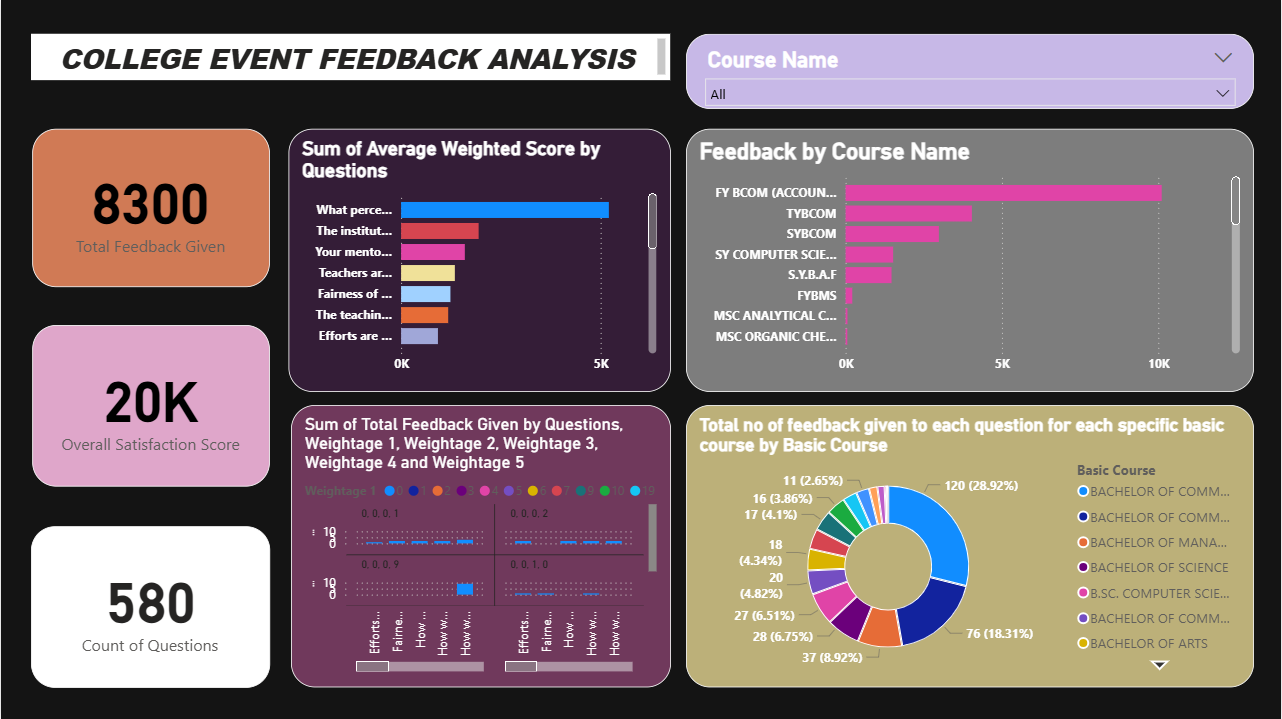

The page's visual inventory and layout, read from the dashboard file:
{"tool":"powerbi","page":{"name":"Page 1","canvas":[1280,720],"ordinal":0},"visuals":[{"type":"textbox","box":[30.2,34.3,639.5,46.7],"z":0},{"type":"clusteredBarChart","fields":{"Category":["Student_Satisfaction_Survey.Questions"],"Y":["Sum(Student_Satisfaction_Survey.Average Weighted Score)"]},"box":[287.1,129.1,382.4,263],"z":1000},{"type":"slicer","fields":{"Values":["Student_Satisfaction_Survey.Course Name "]},"box":[684.7,34.3,568.1,75.5],"z":2000},{"type":"columnChart","fields":{"Y":["Sum(Student_Satisfaction_Survey.Total Feedback Given)"],"Category":["Student_Satisfaction_Survey.Questions"],"Series":["Student_Satisfaction_Survey.Weightage 1"],"Rows":["Student_Satisfaction_Survey.Weightage 2","Student_Satisfaction_Survey.Weightage 3","Student_Satisfaction_Survey.Weightage 4","Student_Satisfaction_Survey.Weightage 5"]},"box":[289.5,405.4,380,282.3],"z":3000},{"type":"card","fields":{"Values":["Sum(Student_Satisfaction_Survey.Total Feedback Given)"]},"box":[31.4,129.1,237.7,158],"z":4000},{"type":"card","fields":{"Values":["Sum(Student_Satisfaction_Survey.Average Weighted Score)"]},"box":[31.4,324.5,237.7,161.7],"z":5000},{"type":"card","fields":{"Values":["CountNonNull(Student_Satisfaction_Survey.Questions)"]},"box":[30.2,526,238.9,161.7],"z":6000},{"type":"clusteredBarChart","fields":{"Category":["Student_Satisfaction_Survey.Course Name "],"Y":["Sum(Student_Satisfaction_Survey.Average Weighted Score)"]},"box":[685.3,129.1,568.2,263],"z":7000},{"type":"donutChart","fields":{"Y":["Sum(Student_Satisfaction_Survey.Total Feedback Given)"],"Category":["Student_Satisfaction_Survey.Basic Course"]},"box":[685.3,405.4,568.2,282.3],"z":8000}]}

Visuals, with their boxes in screenshot pixels (x1, y1, x2, y2), scaled from the page's 1280x720 canvas onto the 1282x719 screenshot:
textbox: bbox=(30, 34, 671, 81)
clusteredBarChart - Student_Satisfaction_Survey.Questions x Sum(Student_Satisfaction_Survey.Average Weighted Score): bbox=(288, 129, 671, 392)
slicer - Student_Satisfaction_Survey.Course Name : bbox=(686, 34, 1255, 110)
columnChart - Sum(Student_Satisfaction_Survey.Total Feedback Given) x Student_Satisfaction_Survey.Questions: bbox=(290, 405, 671, 687)
card - Sum(Student_Satisfaction_Survey.Total Feedback Given): bbox=(31, 129, 270, 287)
card - Sum(Student_Satisfaction_Survey.Average Weighted Score): bbox=(31, 324, 270, 486)
card - CountNonNull(Student_Satisfaction_Survey.Questions): bbox=(30, 525, 270, 687)
clusteredBarChart - Student_Satisfaction_Survey.Course Name  x Sum(Student_Satisfaction_Survey.Average Weighted Score): bbox=(686, 129, 1255, 392)
donutChart - Sum(Student_Satisfaction_Survey.Total Feedback Given) x Student_Satisfaction_Survey.Basic Course: bbox=(686, 405, 1255, 687)
